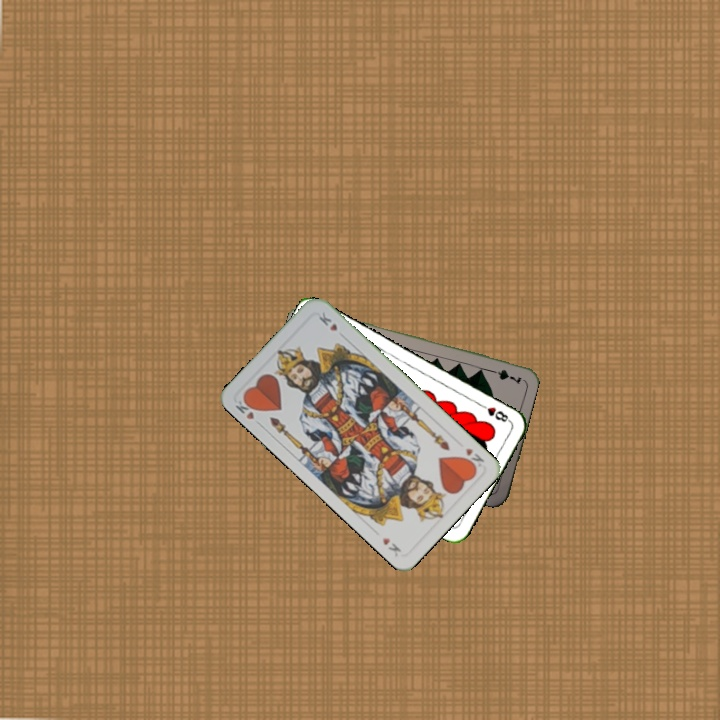G7: (483, 365, 524, 384)
H8: (475, 400, 513, 425)
HK: (231, 392, 261, 422), (459, 444, 487, 472)
